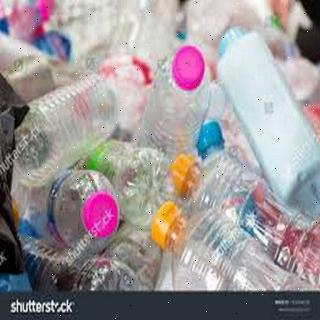Plastic-bottle: (167, 151, 320, 281), (151, 199, 313, 293), (10, 72, 124, 189), (15, 170, 124, 259), (138, 43, 215, 166), (77, 136, 174, 231)
